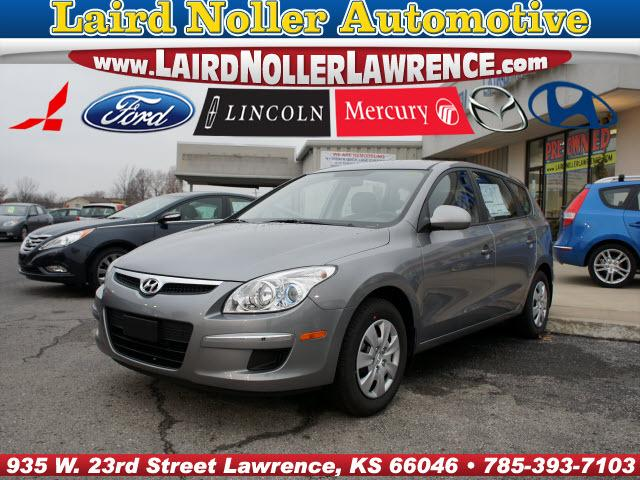Hatchback: (91, 157, 554, 417)
